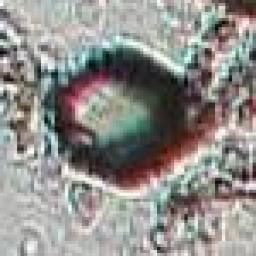crystals: (42, 40, 203, 194)
